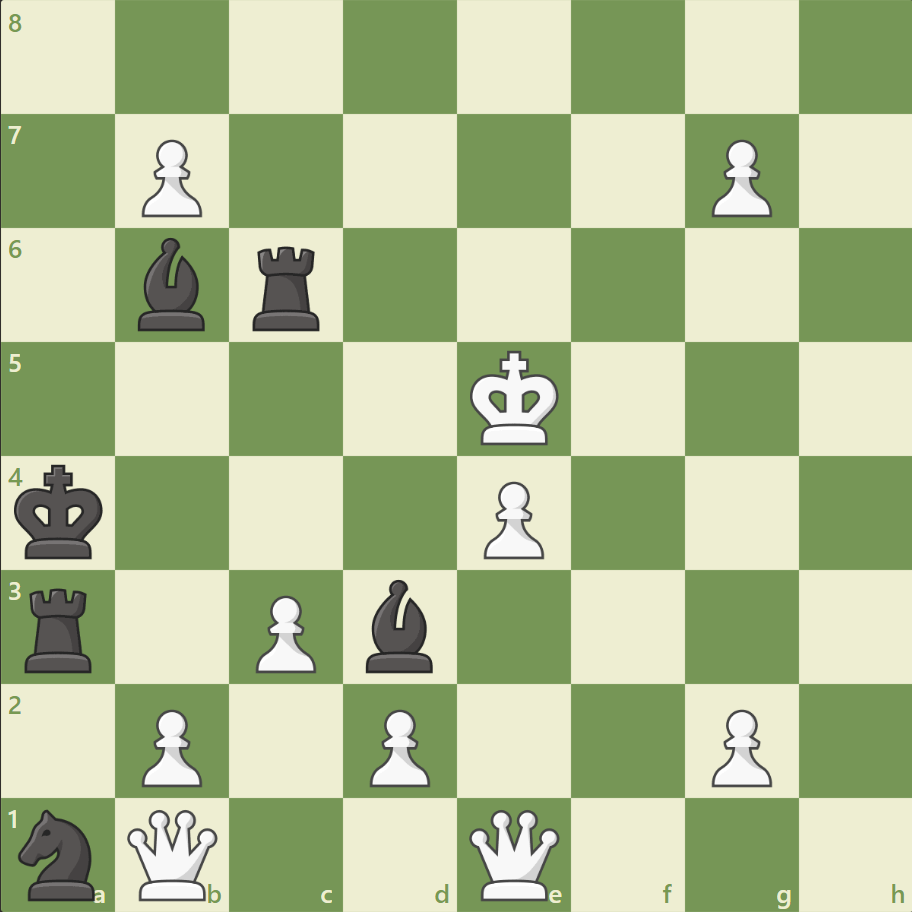K: (465, 344, 565, 452)
P: (133, 132, 208, 223), (701, 132, 776, 223), (474, 473, 549, 564), (247, 586, 322, 677), (133, 700, 208, 791), (701, 700, 776, 791), (361, 700, 435, 791)
Q: (124, 804, 223, 903), (464, 804, 563, 903)
b: (131, 233, 215, 336), (358, 574, 442, 676)
k: (11, 458, 111, 566)
n: (11, 802, 108, 904)
r: (246, 239, 329, 336), (19, 579, 102, 676)
